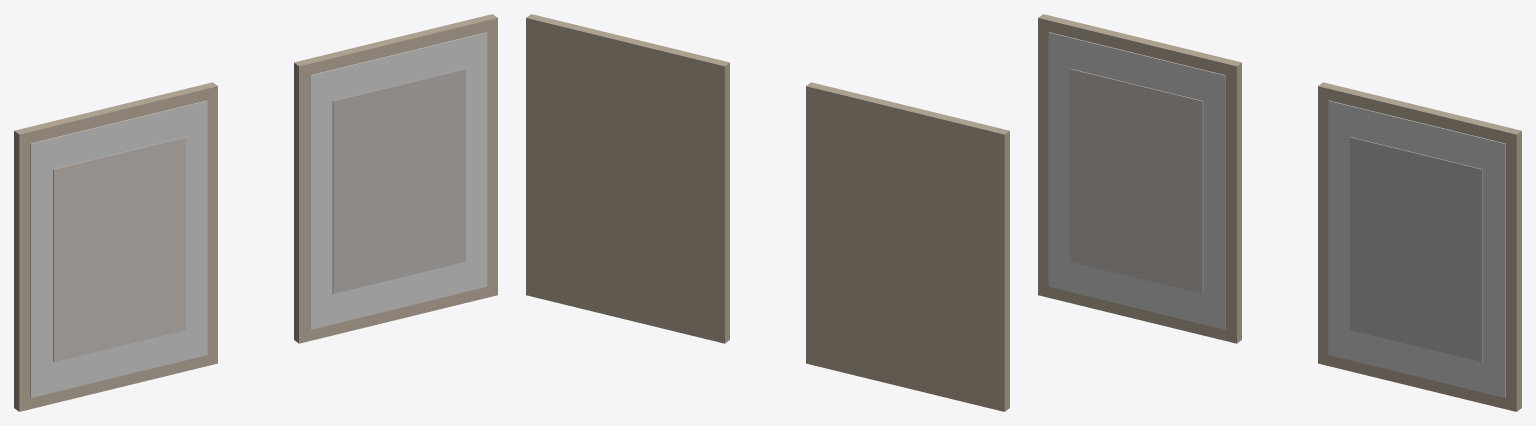
Rendered from framed_wall_art.glb.
3 renders of one model, left to right at view 1: azimuth 30°, elevation 25°; view 2: azimuth 150°, elevation 25°; view 3: azimuth 330°, elevation 25°, orthographic.
Visible parts, largest first — view 1: geometry_5, geometry_2, geometry_4, geometry_1, geometry_0, geometry_3; view 2: geometry_0, geometry_3; view 3: geometry_2, geometry_5, geometry_1, geometry_4, geometry_0, geometry_3.
Boxes of the visible parts, x1,y1,x2,y2 form: geometry_5: [332, 69, 465, 293]; geometry_2: [53, 137, 185, 362]; geometry_4: [310, 32, 487, 329]; geometry_1: [30, 100, 207, 397]; geometry_0: [14, 82, 217, 411]; geometry_3: [294, 14, 497, 343]; geometry_0: [806, 82, 1009, 411]; geometry_3: [526, 14, 729, 343]; geometry_2: [1070, 69, 1203, 293]; geometry_5: [1350, 137, 1482, 362]; geometry_1: [1048, 32, 1225, 329]; geometry_4: [1328, 100, 1505, 397]; geometry_0: [1038, 14, 1241, 343]; geometry_3: [1318, 82, 1521, 411].
Bounding box in the file's own units: 1.3 × 0.72 × 0.03.
